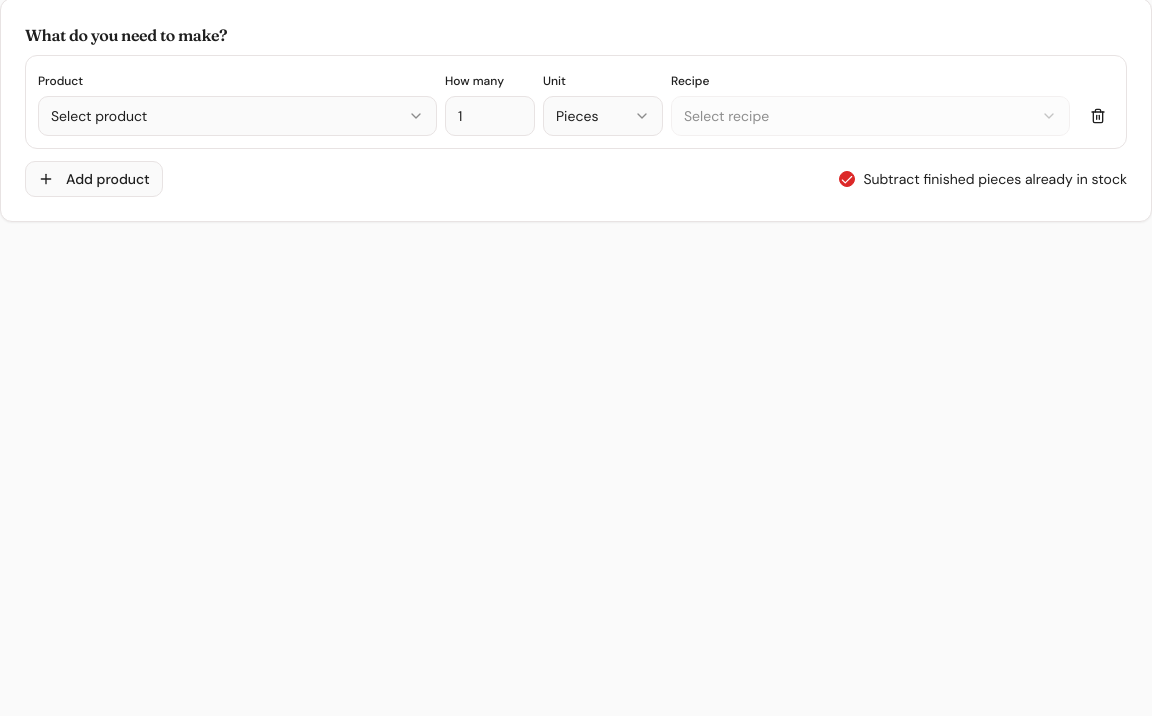
Test case: product + quantity -> dough, whole batches, ingredients, packaging and what to buy
The width and height of the screenshot is (1164, 716).
Note: pick the product (its only recipe is chosen for you)
Step 1. Press Enter in the dropdown labelled "Select product", box [38,96,437,136]
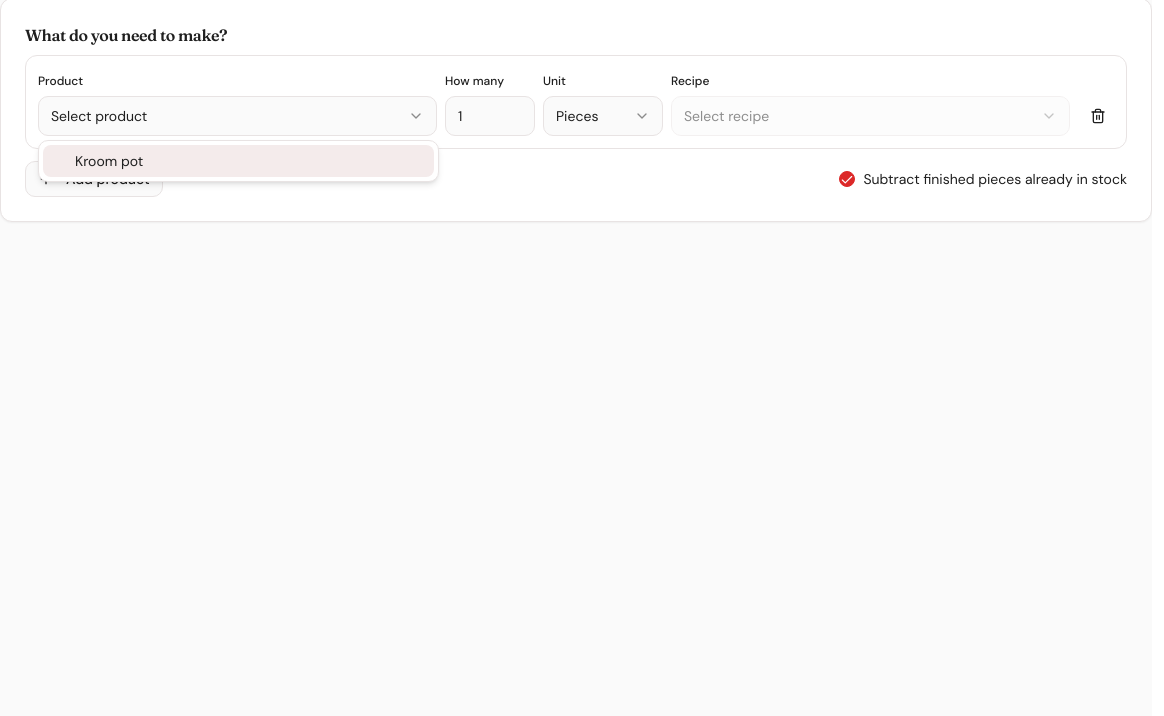
Step 2. Click the option "Kroom pot" → (109, 161), box [43,145,434,177]
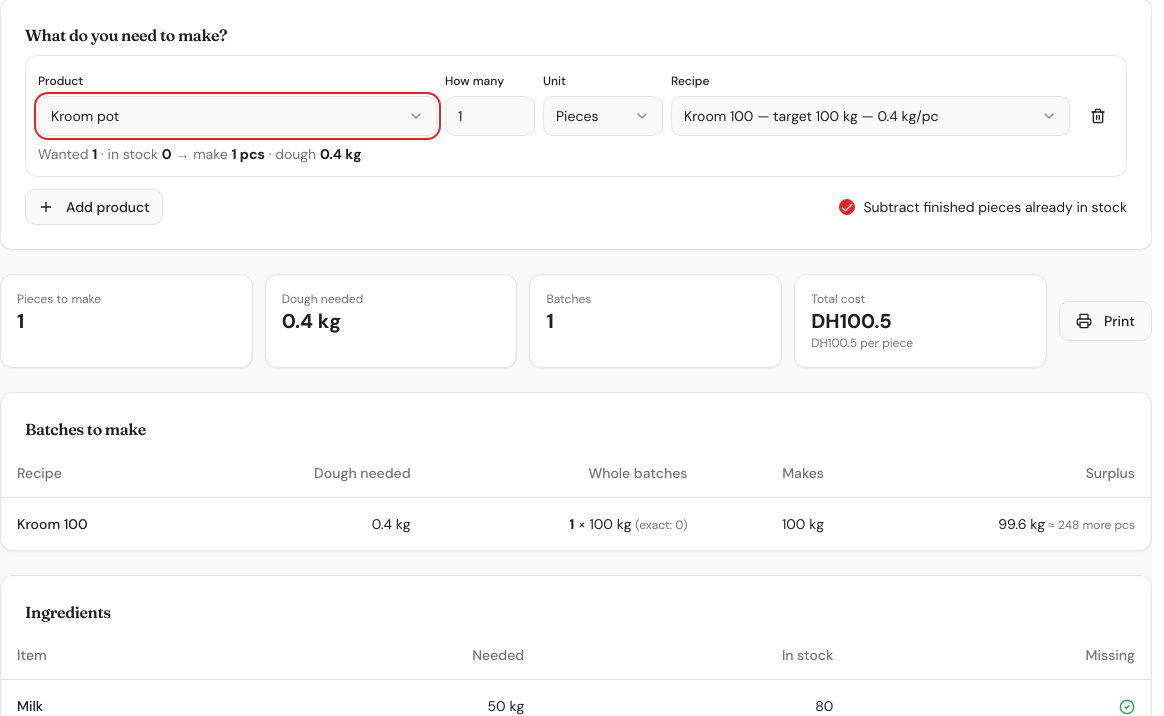
Check: the dropdown labelled "Kroom 100 — target 100 kg — 0.4 kg/pc" is shown, box [671,96,1070,136]
Step 3. Replace the text in the number field with "450" → (490, 116), box [445,96,535,136]
(page scrolled)
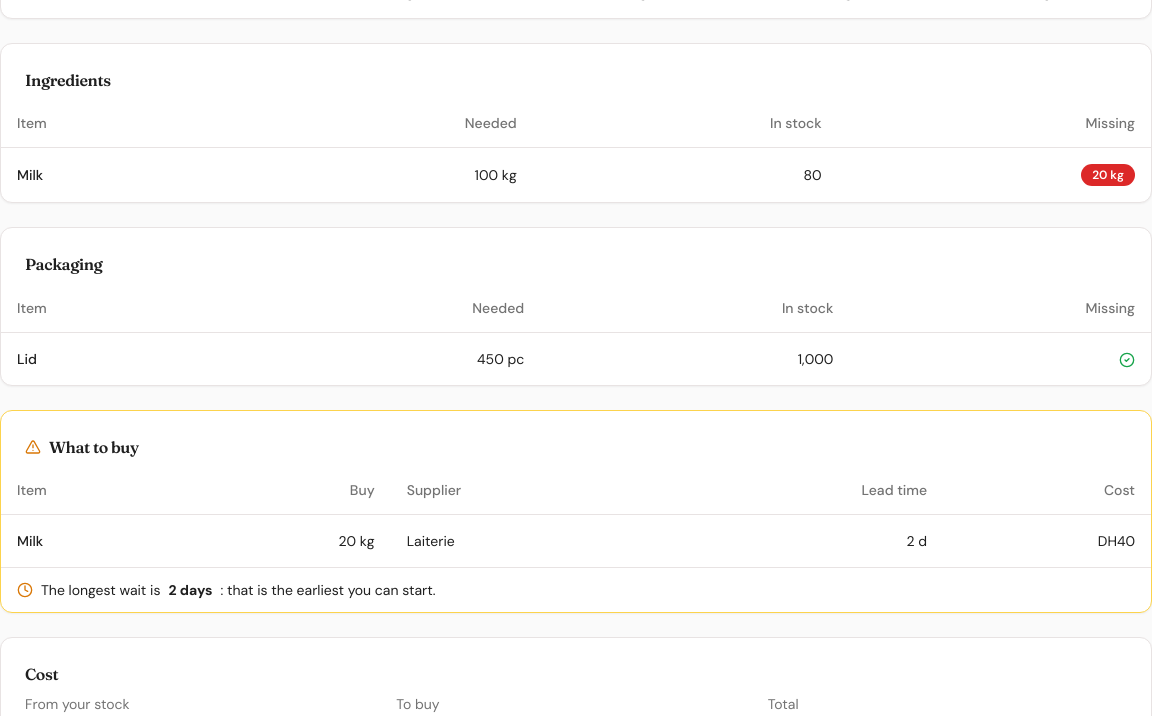
Check: the text "Milk" in the row of "Laiterie" is shown, box [17,532,43,550]
Check: the text "Laiterie" is shown, box [391,514,650,567]
Check: the text "20 kg" next to "Laiterie" is shown, box [186,514,391,567]
